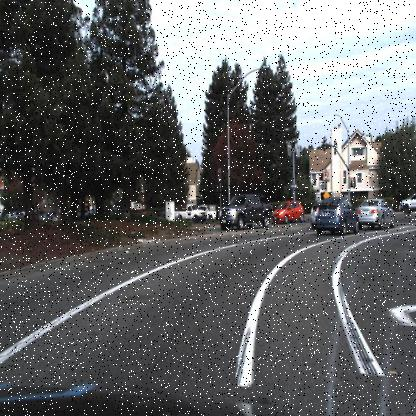car: (215, 183, 271, 239), (312, 192, 357, 238), (355, 196, 397, 231), (270, 193, 306, 228), (170, 204, 206, 223), (399, 189, 415, 215), (307, 198, 318, 230)
